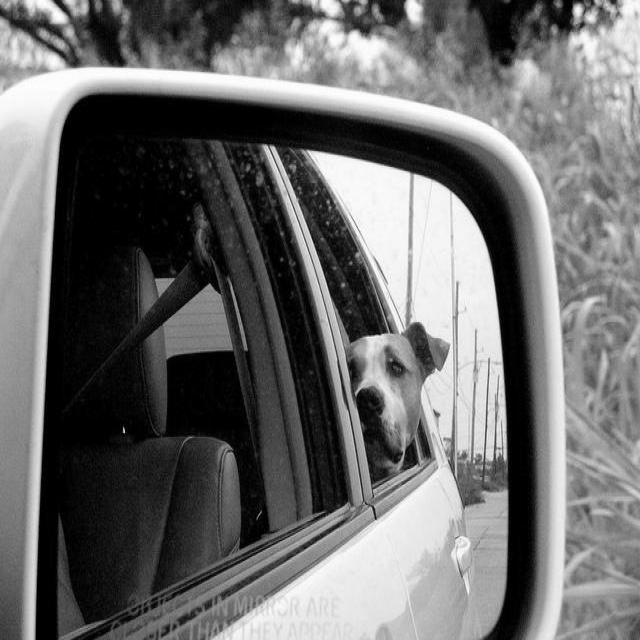vehicle: (65, 131, 470, 631)
